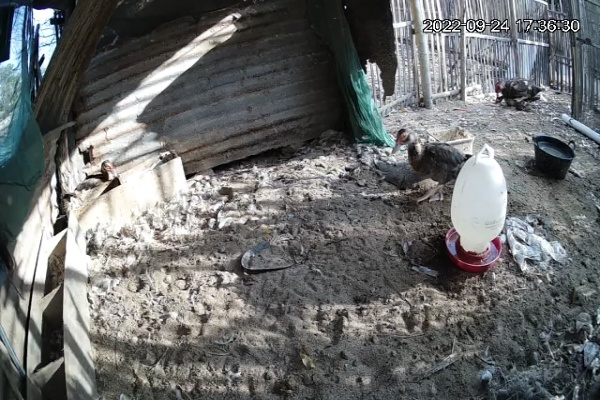Kawin: (489, 70, 550, 119)
